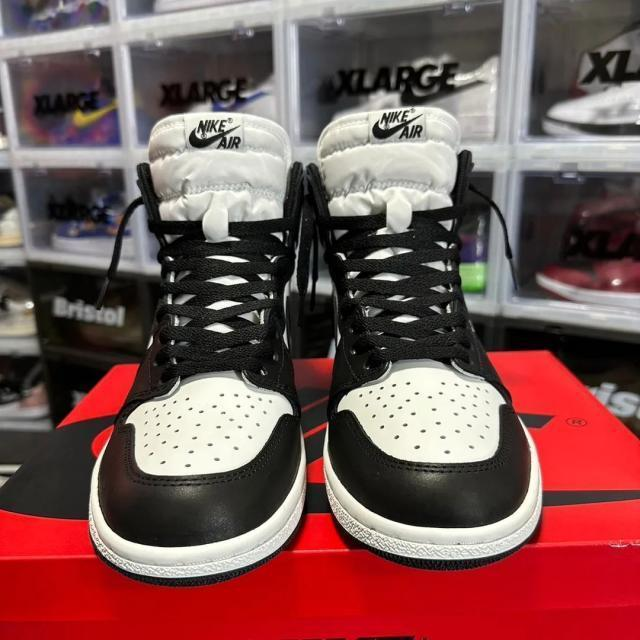nike original jordan 1: (94, 113, 316, 589), (316, 111, 544, 572)
